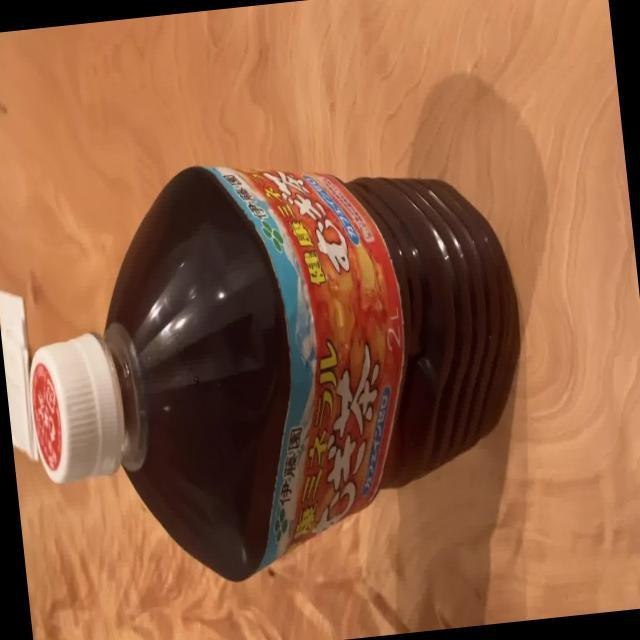good: (4, 132, 544, 604)
